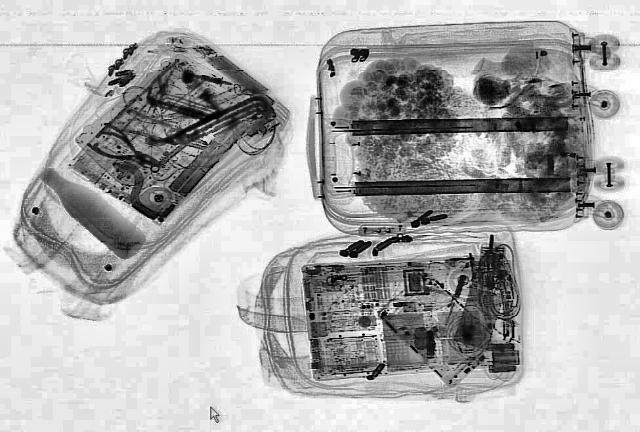Pliers: (80, 126, 170, 176)
